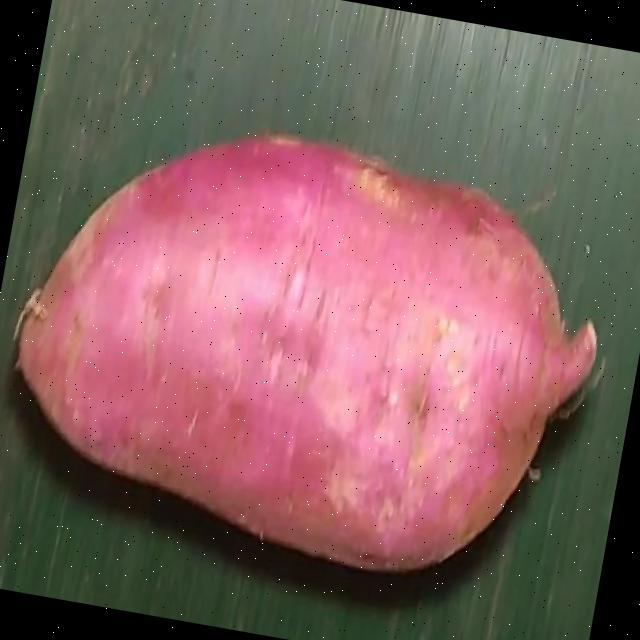Sweet Potato: (11, 132, 600, 573)
